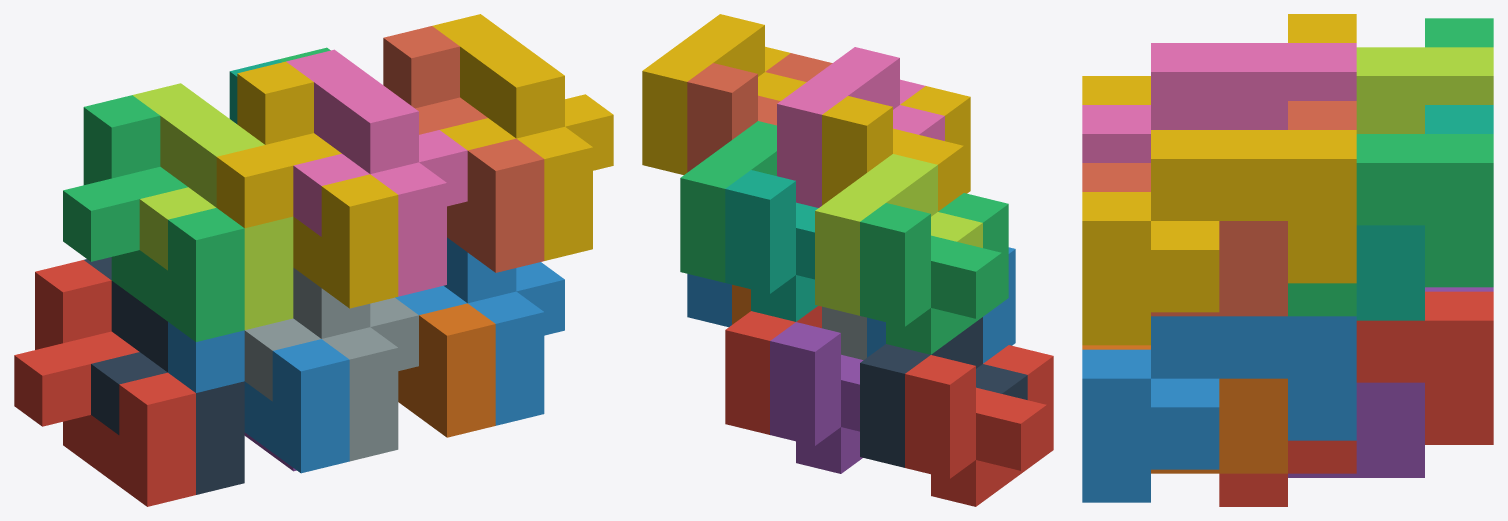
The model's file is tiling.obj.
The picture shows the model from 3 angles, left to right: view 1: azimuth 30°, elevation 25°; view 2: azimuth 150°, elevation 25°; view 3: azimuth 270°, elevation 25°; orthographic projection. The views are drawn at different scales.
Visible parts, largest first — view 1: copy_1_domain_3, copy_1_domain_1, copy_1_domain_4, copy_2_domain_4, copy_2_domain_8, copy_1_domain_8, copy_2_domain_3, copy_1_domain_2, copy_2_domain_2, copy_2_domain_6, copy_2_domain_1, copy_1_domain_6 (+1 smaller); view 2: copy_1_domain_1, copy_1_domain_3, copy_1_domain_5, copy_1_domain_7, copy_1_domain_4, copy_2_domain_8, copy_2_domain_3, copy_2_domain_4, copy_2_domain_1, copy_2_domain_7, copy_1_domain_8, copy_2_domain_5 (+4 smaller); view 3: copy_2_domain_8, copy_2_domain_6, copy_2_domain_4, copy_2_domain_5, copy_2_domain_7, copy_1_domain_8, copy_2_domain_3, copy_1_domain_7, copy_1_domain_6, copy_1_domain_5, copy_1_domain_4, copy_1_domain_3.
Part boxes in pixels (x1,y1,x2,y2): copy_1_domain_3: (63,95,244,341); copy_1_domain_1: (14,260,195,506); copy_1_domain_4: (216,61,398,308); copy_2_domain_4: (286,49,467,296); copy_2_domain_8: (432,14,613,260); copy_1_domain_8: (383,26,544,272); copy_2_domain_3: (132,83,293,329); copy_1_domain_2: (168,322,349,473); copy_2_domain_2: (244,267,418,461); copy_2_domain_6: (395,237,564,425); copy_2_domain_1: (84,257,244,494); copy_1_domain_6: (398,303,495,437); copy_1_domain_1: (905,345,1053,506); copy_1_domain_3: (860,193,1008,354); copy_1_domain_5: (770,322,863,473); copy_1_domain_7: (725,170,818,321); copy_1_domain_4: (822,86,970,211); copy_2_domain_8: (642,14,806,174); copy_2_domain_3: (815,154,982,315); copy_2_domain_4: (777,47,944,207); copy_2_domain_1: (860,317,1027,467); copy_2_domain_7: (680,121,776,282); copy_1_domain_8: (687,53,832,172); copy_2_domain_5: (725,306,821,434); copy_2_domain_8: (1082,130,1356,345); copy_2_domain_6: (1082,316,1356,502); copy_2_domain_4: (1082,43,1356,162); copy_2_domain_5: (1219,291,1493,506); copy_2_domain_7: (1288,134,1493,316); copy_1_domain_8: (1082,101,1356,316); copy_2_domain_3: (1356,47,1493,133); copy_1_domain_7: (1356,105,1493,320); copy_1_domain_6: (1082,345,1287,473); copy_1_domain_5: (1288,287,1493,477); copy_1_domain_4: (1082,14,1356,104); copy_1_domain_3: (1425,18,1493,47).
Size of the model in its own units: 10 by 7 by 6.
